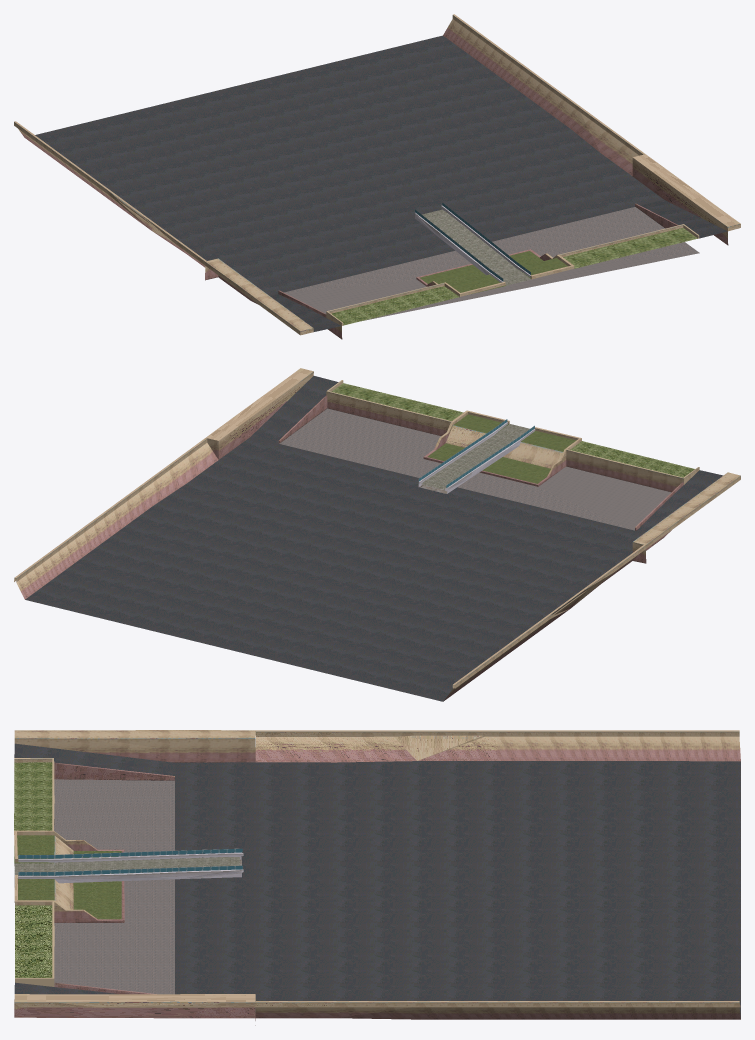
The model's file is lodassland56b.obj.
3 renders of one model, top to bottom at view 1: azimuth 30°, elevation 25°; view 2: azimuth 150°, elevation 25°; view 3: azimuth 270°, elevation 25°, orthographic. The views are drawn at different scales.
Parts seen in each view (by area): view 1: lodasSland56b; view 2: lodasSland56b; view 3: lodasSland56b.
Boxes of the visible parts, x1,y1,x2,y2 form: lodasSland56b: (14, 14, 740, 339); lodasSland56b: (14, 368, 740, 701); lodasSland56b: (14, 730, 740, 1025).
Size of the model in its own units: 160 by 8.86 by 180.
9 materials, 9 textured.
